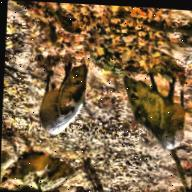boar: (118, 72, 187, 152), (37, 61, 89, 139)
